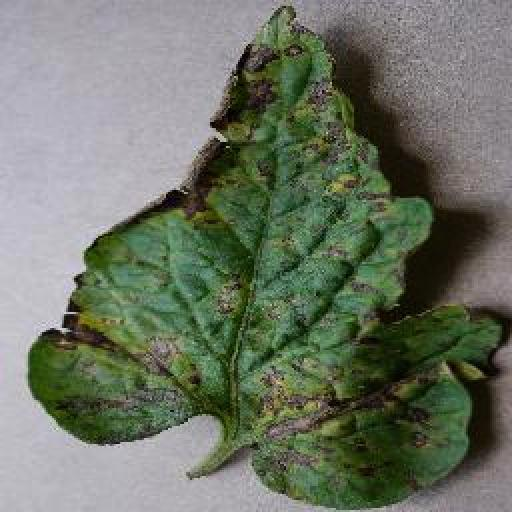disease_tomato: (28, 10, 506, 510)
